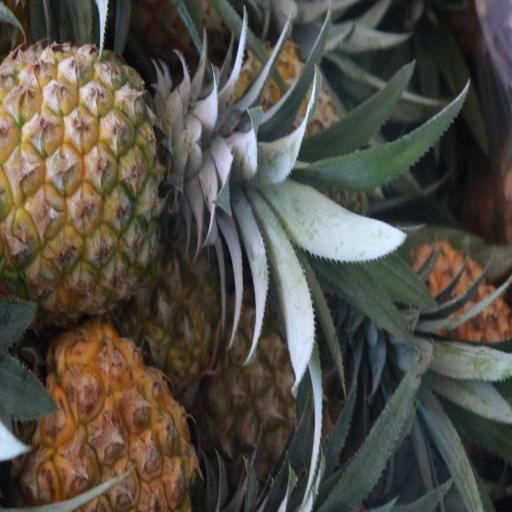Pineapple - v8 v1: (0, 40, 180, 301), (25, 324, 200, 512), (210, 289, 336, 482)
